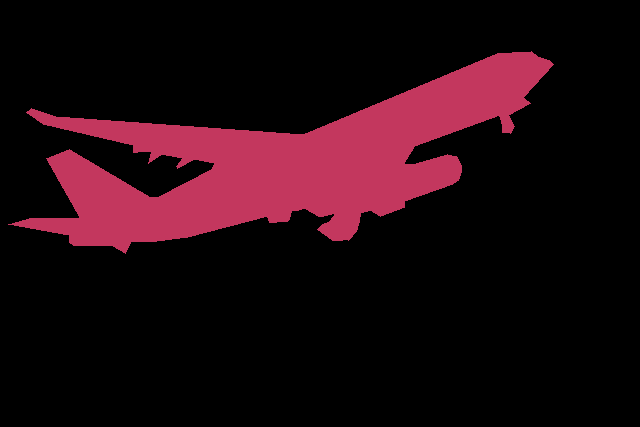Airplane: (8, 51, 554, 253)
